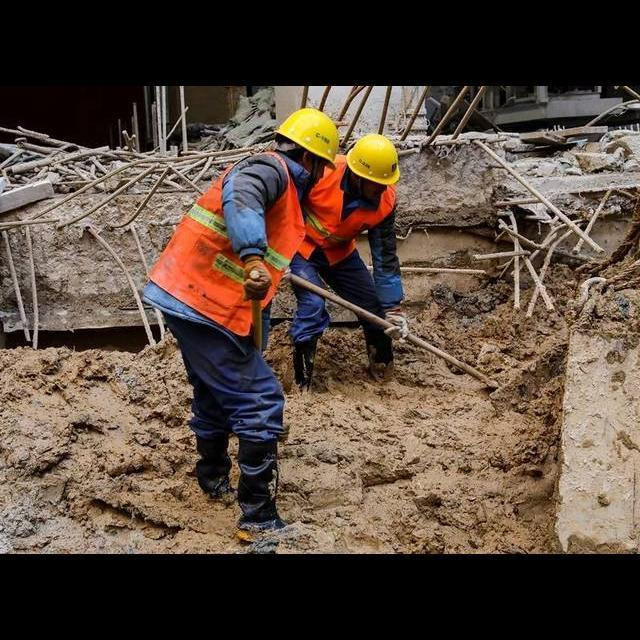Capacete: (277, 108, 338, 166), (347, 134, 399, 184)
Colete: (150, 171, 251, 335), (298, 155, 395, 264)
Pessoa: (144, 108, 338, 538), (290, 134, 407, 336)
